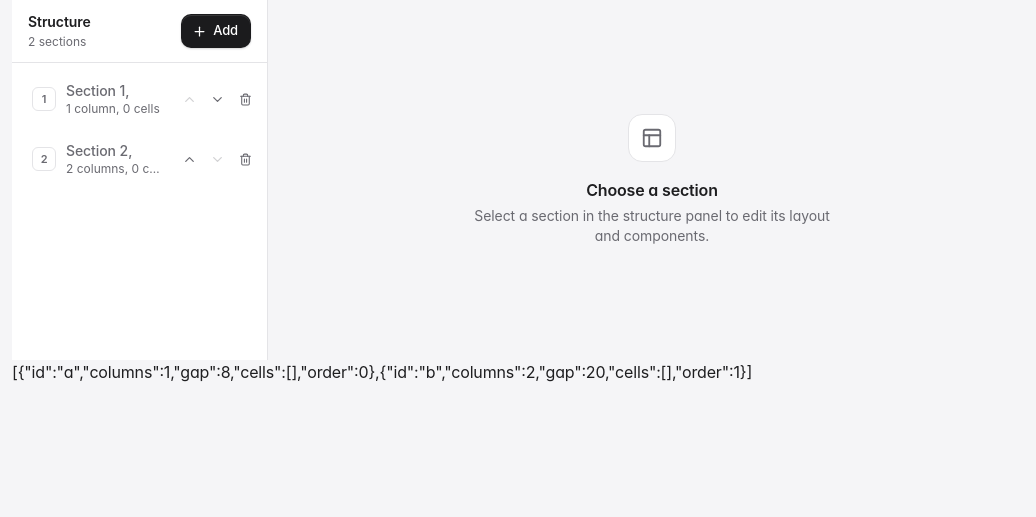
Test: keeps the second grid selected when moving it up across the first and restores keyboard focus
Later steps or results of the test are not shown.
Click the button "2 Section 2, 2 columns, 0 cells" at (98, 159), box x1=20 y1=131 x2=175 y2=187
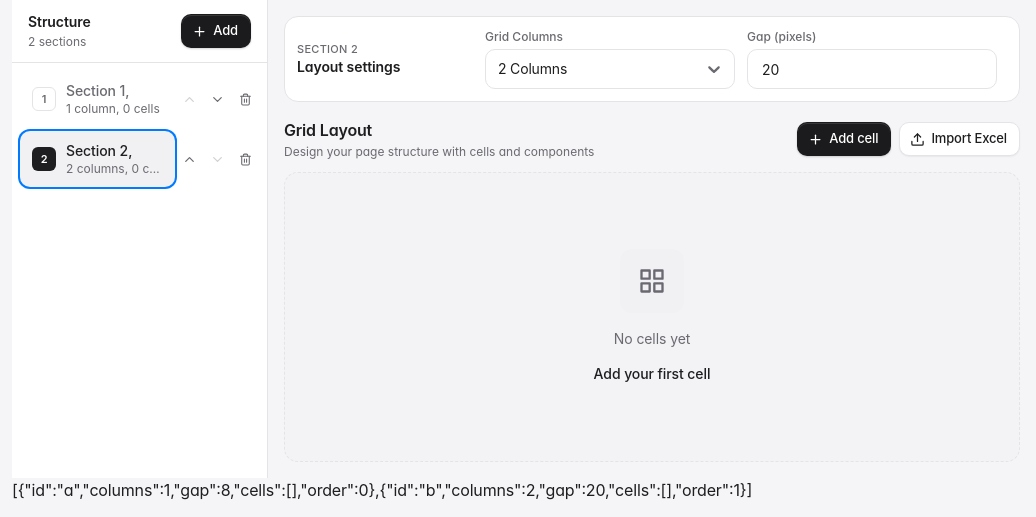
Click the button named "Move section 2 up" at (189, 159), box x1=175 y1=145 x2=203 y2=173
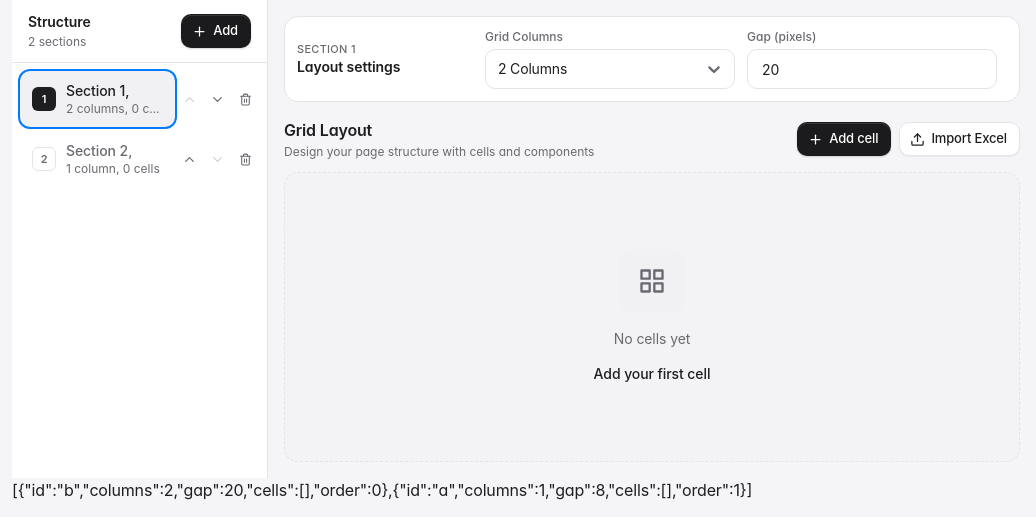
Result: the number field labelled "Gap (pixels)" holds "20" at x1=747 y1=49 x2=997 y2=89
